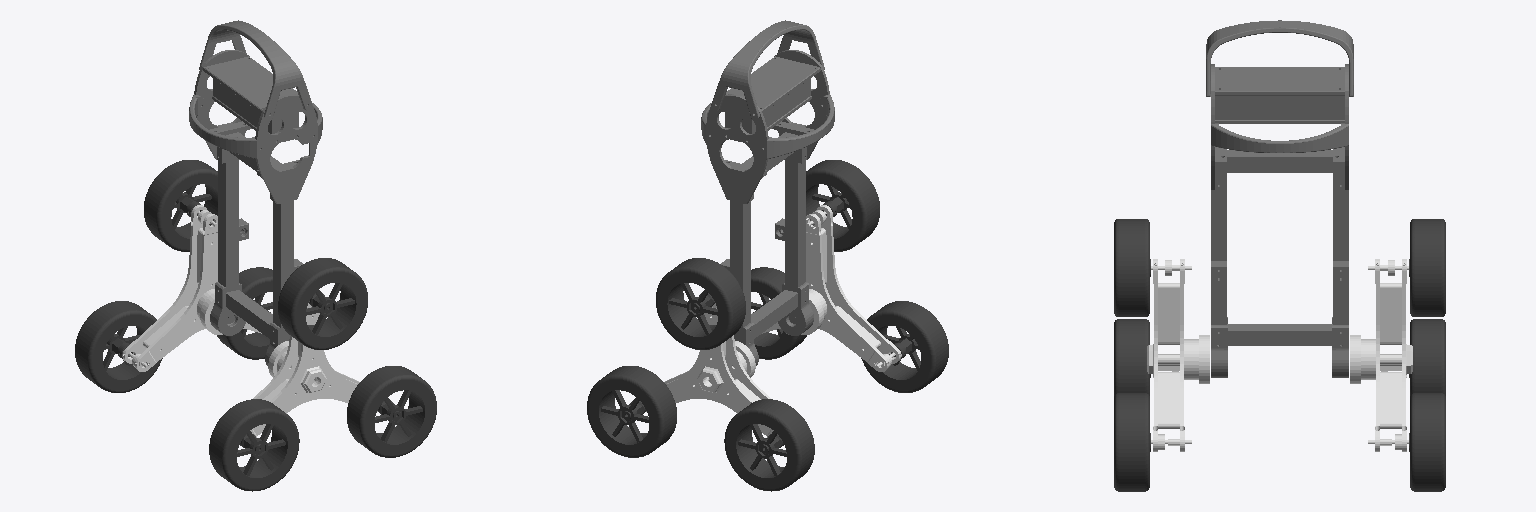
URDF robot description (tribot):
<?xml version="1.0"?>
<robot name="tribot">

<!-- material color setting -->
<material name="#ffffff">
  <color rgba="1.000 1.000 1.000 1.0"/>
</material>
<material name="#848484">
  <color rgba="0.518 0.518 0.518 1.0"/>
</material>
<material name="#505050">
  <color rgba="0.314 0.314 0.314 1.0"/>
</material>
<material name="#e4e4e4">
  <color rgba="0.898 0.898 0.898 1.0"/>
</material>

  <link name="base_link">
    <inertial>
      <origin xyz="0 0 0" rpy="0 0 0"/>
      <mass value="0.0"/>
      <inertia ixx="0.01" ixy="0.0" ixz="0.0" iyy="0.0" iyz="0.0" izz="0.0"/>
    </inertial>
  </link>

  <joint name="base_link_to_c_body" type="revolute">
    <origin xyz="0 0 0" rpy="0.0 0.0 0.0"/>
    <axis xyz="1 0 0"/>
    <parent link="base_link"/>
    <child link="c_body"/>
    <limit lower="-3.14159" upper="3.14159" effort="0" velocity="0"/>
  </joint>

  <link name="c_body">
    <inertial>
      <origin xyz="0 0 0.247" rpy="0 0 0"/>
      <mass value="2.716678"/>
      <inertia ixx="0.057035" ixy="0.0" ixz="0.0" iyy="0.056436" iyz="0.0" izz="0.014235"/>
    </inertial>
    <visual>
      <origin xyz="0 0 0" rpy="0 0 0"/>
      <geometry>
        <mesh filename="package://tribot_description/meshes/c_body.stl"/>
      </geometry>
      <material name="#848484"/>
    </visual>
    <collision>
      <origin xyz="0 0 0" rpy="0 0 0"/>
      <geometry>
        <mesh filename="package://tribot_description/meshes/c_body.stl"/>
      </geometry>
    </collision>
  </link>

  <joint name="c_body_to_l_triplet" type="continuous">
    <origin xyz="0.0 -0.0825 0.0" rpy="0.0 0.0 0.0"/>
    <axis xyz="0 1 0"/>
    <parent link="c_body"/>
    <child link="l_triplet"/>
  </joint>

  <link name="l_triplet">
    <inertial>
      <origin xyz="0 0 0" rpy="0 0 0"/>
      <mass value="0.253511"/>
      <inertia ixx="0.001079" ixy="0.0" ixz="0.0" iyy="0.002097" iyz="0.0" izz="0.001341"/>
    </inertial>
    <visual>
      <origin xyz="0 0 0" rpy="0 0 0"/>
      <geometry>
        <mesh filename="package://tribot_description/meshes/l_triplet.stl"/>
      </geometry>
      <material name="#e4e4e4"/>
    </visual>
    <collision>
      <origin xyz="0 0 0" rpy="0 0 0"/>
      <geometry>
        <mesh filename="package://tribot_description/meshes/l_triplet.stl"/>
      </geometry>
    </collision>
  </link>

  <joint name="l_triplet_to_l_wheel_1" type="continuous">
    <origin xyz="0.0 -0.07 0.12" rpy="0.0 0.0 0.0"/>
    <axis xyz="0 1 0"/>
    <parent link="l_triplet"/>
    <child link="l_wheel_1"/>
  </joint>

  <link name="l_wheel_1">
    <inertial>
      <origin xyz="0 0 0" rpy="0 0 0"/>
      <mass value="0.027132"/>
      <inertia ixx="0.000040" ixy="0.0" ixz="0.0" iyy="0.000068" iyz="0.0" izz="0.000040"/>
    </inertial>
    <visual>
      <origin xyz="0 0 0" rpy="0 0 0"/>
      <geometry>
        <mesh filename="package://tribot_description/meshes/l_wheel.stl"/>
      </geometry>
      <material name="#505050"/>
    </visual>
    <collision>
      <origin xyz="0 0 0" rpy="0 0 0"/>
      <geometry>
        <mesh filename="package://tribot_description/meshes/l_wheel.stl"/>
      </geometry>
    </collision>
  </link>

  <joint name="l_triplet_to_l_wheel_2" type="continuous">
    <origin xyz="-0.10414 -0.07 -0.060125" rpy="0.0 0.0 0.0"/>
    <axis xyz="0 1 0"/>
    <parent link="l_triplet"/>
    <child link="l_wheel_2"/>
  </joint>

  <link name="l_wheel_2">
    <inertial>
      <origin xyz="0 0 0" rpy="0 0 0"/>
      <mass value="0.027132"/>
      <inertia ixx="0.000040" ixy="0.0" ixz="0.0" iyy="0.000068" iyz="0.0" izz="0.000040"/>
    </inertial>
    <visual>
      <origin xyz="0 0 0" rpy="0 0 0"/>
      <geometry>
        <mesh filename="package://tribot_description/meshes/l_wheel.stl"/>
      </geometry>
      <material name="#505050"/>
    </visual>
    <collision>
      <origin xyz="0 0 0" rpy="0 0 0"/>
      <geometry>
        <mesh filename="package://tribot_description/meshes/l_wheel.stl"/>
      </geometry>
    </collision>
  </link>

  <joint name="l_triplet_to_l_wheel_3" type="continuous">
    <origin xyz="0.10414 -0.07 -0.060125" rpy="0.0 0.0 0.0"/>
    <axis xyz="0 1 0"/>
    <parent link="l_triplet"/>
    <child link="l_wheel_3"/>
  </joint>

  <link name="l_wheel_3">
    <inertial>
      <origin xyz="0 0 0" rpy="0 0 0"/>
      <mass value="0.027132"/>
      <inertia ixx="0.000040" ixy="0.0" ixz="0.0" iyy="0.000068" iyz="0.0" izz="0.000040"/>
    </inertial>
    <visual>
      <origin xyz="0 0 0" rpy="0 0 0"/>
      <geometry>
        <mesh filename="package://tribot_description/meshes/l_wheel.stl"/>
      </geometry>
      <material name="#505050"/>
    </visual>
    <collision>
      <origin xyz="0 0 0" rpy="0 0 0"/>
      <geometry>
        <mesh filename="package://tribot_description/meshes/l_wheel.stl"/>
      </geometry>
    </collision>
  </link>

  <joint name="c_body_to_r_triplet" type="continuous">
    <origin xyz="0.0 0.0825 0.0" rpy="0.0 0.0 0.0"/>
    <axis xyz="0 1 0"/>
    <parent link="c_body"/>
    <child link="r_triplet"/>
  </joint>

  <link name="r_triplet">
    <inertial>
      <origin xyz="0 0 0" rpy="0 0 0"/>
      <mass value="0.253511"/>
      <inertia ixx="0.001079" ixy="0.0" ixz="0.0" iyy="0.002097" iyz="0.0" izz="0.001341"/>
    </inertial>
    <visual>
      <origin xyz="0 0 0" rpy="0 0 0"/>
      <geometry>
        <mesh filename="package://tribot_description/meshes/r_triplet.stl"/>
      </geometry>
      <material name="#e4e4e4"/>
    </visual>
    <collision>
      <origin xyz="0 0 0" rpy="0 0 0"/>
      <geometry>
        <mesh filename="package://tribot_description/meshes/r_triplet.stl"/>
      </geometry>
    </collision>
  </link>

  <joint name="r_triplet_to_r_wheel_1" type="continuous">
    <origin xyz="0.0 0.07 0.12" rpy="0.0 0.0 0.0"/>
    <axis xyz="0 1 0"/>
    <parent link="r_triplet"/>
    <child link="r_wheel_1"/>
  </joint>

  <link name="r_wheel_1">
    <inertial>
      <origin xyz="0 0 0" rpy="0 0 0"/>
      <mass value="0.027132"/>
      <inertia ixx="0.000040" ixy="0.0" ixz="0.0" iyy="0.000068" iyz="0.0" izz="0.000040"/>
    </inertial>
    <visual>
      <origin xyz="0 0 0" rpy="0 0 0"/>
      <geometry>
        <mesh filename="package://tribot_description/meshes/r_wheel.stl"/>
      </geometry>
      <material name="#505050"/>
    </visual>
    <collision>
      <origin xyz="0 0 0" rpy="0 0 0"/>
      <geometry>
        <mesh filename="package://tribot_description/meshes/r_wheel.stl"/>
      </geometry>
    </collision>
  </link>

  <joint name="r_triplet_to_r_wheel_2" type="continuous">
    <origin xyz="-0.10414 0.07 -0.060125" rpy="0.0 0.0 0.0"/>
    <axis xyz="0 1 0"/>
    <parent link="r_triplet"/>
    <child link="r_wheel_2"/>
  </joint>

  <link name="r_wheel_2">
    <inertial>
      <origin xyz="0 0 0" rpy="0 0 0"/>
      <mass value="0.027132"/>
      <inertia ixx="0.000040" ixy="0.0" ixz="0.0" iyy="0.000068" iyz="0.0" izz="0.000040"/>
    </inertial>
    <visual>
      <origin xyz="0 0 0" rpy="0 0 0"/>
      <geometry>
        <mesh filename="package://tribot_description/meshes/r_wheel.stl"/>
      </geometry>
      <material name="#505050"/>
    </visual>
    <collision>
      <origin xyz="0 0 0" rpy="0 0 0"/>
      <geometry>
        <mesh filename="package://tribot_description/meshes/r_wheel.stl"/>
      </geometry>
    </collision>
  </link>

  <joint name="r_triplet_to_r_wheel_3" type="continuous">
    <origin xyz="0.10414 0.07 -0.060125" rpy="0.0 0.0 0.0"/>
    <axis xyz="0 1 0"/>
    <parent link="r_triplet"/>
    <child link="r_wheel_3"/>
  </joint>

  <link name="r_wheel_3">
    <inertial>
      <origin xyz="0 0 0" rpy="0 0 0"/>
      <mass value="0.027132"/>
      <inertia ixx="0.000040" ixy="0.0" ixz="0.0" iyy="0.000068" iyz="0.0" izz="0.000040"/>
    </inertial>
    <visual>
      <origin xyz="0 0 0" rpy="0 0 0"/>
      <geometry>
        <mesh filename="package://tribot_description/meshes/r_wheel.stl"/>
      </geometry>
      <material name="#505050"/>
    </visual>
    <collision>
      <origin xyz="0 0 0" rpy="0 0 0"/>
      <geometry>
        <mesh filename="package://tribot_description/meshes/r_wheel.stl"/>
      </geometry>
    </collision>
  </link>

</robot>

--- Facts derived from the render (not from the file) ---
3 views of the same robot in one strip: view 1: azimuth 30°, elevation 25°; view 2: azimuth 150°, elevation 25°; view 3: azimuth 270°, elevation 25° (orthographic).
Robot: tribot — 10 links, 9 joints (1 revolute, 8 continuous); root link base_link; default pose: all joints at 0.
Links seen in each view (by area): view 1: c_body, l_wheel_1, l_wheel_2, l_wheel_3, r_triplet, r_wheel_2, l_triplet, r_wheel_1, r_wheel_3; view 2: c_body, r_wheel_1, r_wheel_2, r_wheel_3, l_triplet, l_wheel_2, r_triplet, l_wheel_1, l_wheel_3; view 3: c_body, l_triplet, r_triplet, l_wheel_3, r_wheel_3, l_wheel_1, r_wheel_1, l_wheel_2, r_wheel_2.
Link boxes in pixels (left/top/right/bottom): c_body: left=189, top=20, right=322, bottom=365; l_wheel_1: left=278, top=258, right=367, bottom=349; l_wheel_2: left=209, top=399, right=299, bottom=491; l_wheel_3: left=347, top=366, right=436, bottom=457; r_triplet: left=122, top=205, right=271, bottom=371; r_wheel_2: left=75, top=301, right=162, bottom=392; l_triplet: left=250, top=303, right=377, bottom=437; r_wheel_1: left=144, top=160, right=217, bottom=251; r_wheel_3: left=217, top=267, right=272, bottom=359; c_body: left=701, top=20, right=834, bottom=365; r_wheel_1: left=656, top=258, right=745, bottom=349; r_wheel_2: left=724, top=399, right=814, bottom=491; r_wheel_3: left=587, top=366, right=676, bottom=457; l_triplet: left=752, top=205, right=901, bottom=371; l_wheel_2: left=861, top=301, right=948, bottom=392; r_triplet: left=646, top=303, right=773, bottom=437; l_wheel_1: left=806, top=160, right=879, bottom=251; l_wheel_3: left=751, top=267, right=806, bottom=359; c_body: left=1206, top=20, right=1353, bottom=377; l_triplet: left=1147, top=259, right=1209, bottom=451; r_triplet: left=1350, top=259, right=1412, bottom=451; l_wheel_3: left=1114, top=393, right=1150, bottom=491; r_wheel_3: left=1409, top=393, right=1445, bottom=491; l_wheel_1: left=1114, top=219, right=1150, bottom=316; r_wheel_1: left=1409, top=219, right=1445, bottom=316; l_wheel_2: left=1114, top=319, right=1150, bottom=395; r_wheel_2: left=1409, top=319, right=1445, bottom=395.
Size in the robot's own frame: 0.3252 by 0.394 by 0.5588 metres.
Meshes: 5 distinct files referenced, 9 mesh visuals loaded (5 binary STL).
